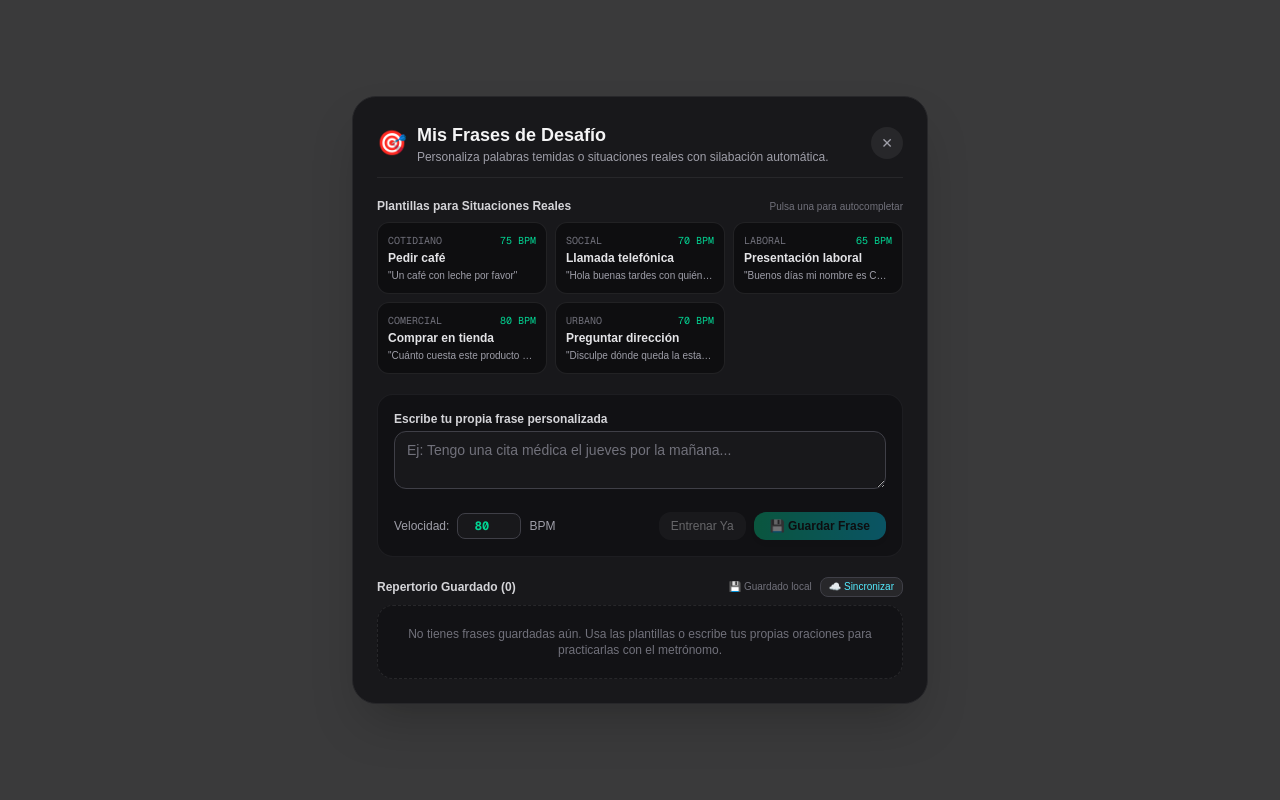
Test: CustomPhraseTrainer › guarda una frase en localStorage y la muestra en el repertorio
Type "Refrigerador de la cocina" into the text box labelled "Escribe tu propia frase personalizada" at coordinates (640, 460), box [394, 431, 886, 489]
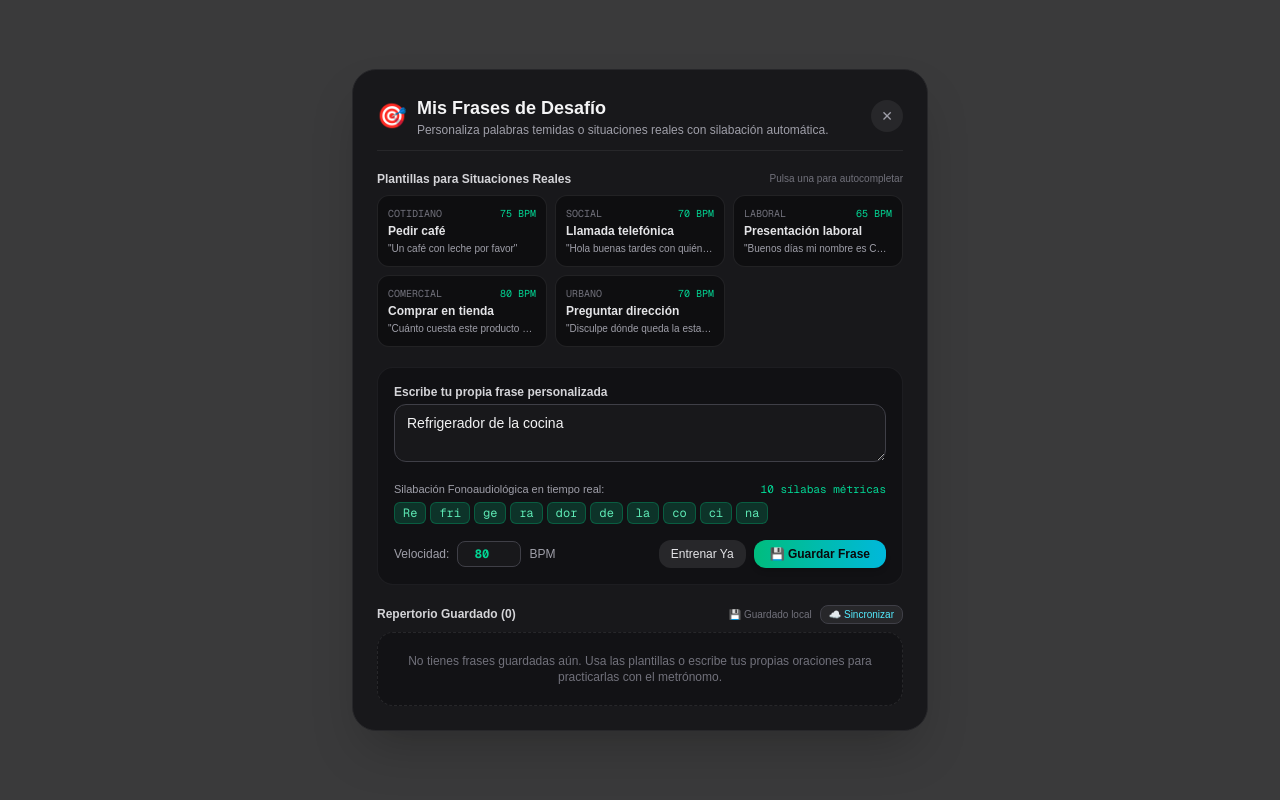
Click the button "💾 Guardar Frase" at coordinates (820, 554), box [754, 540, 886, 568]
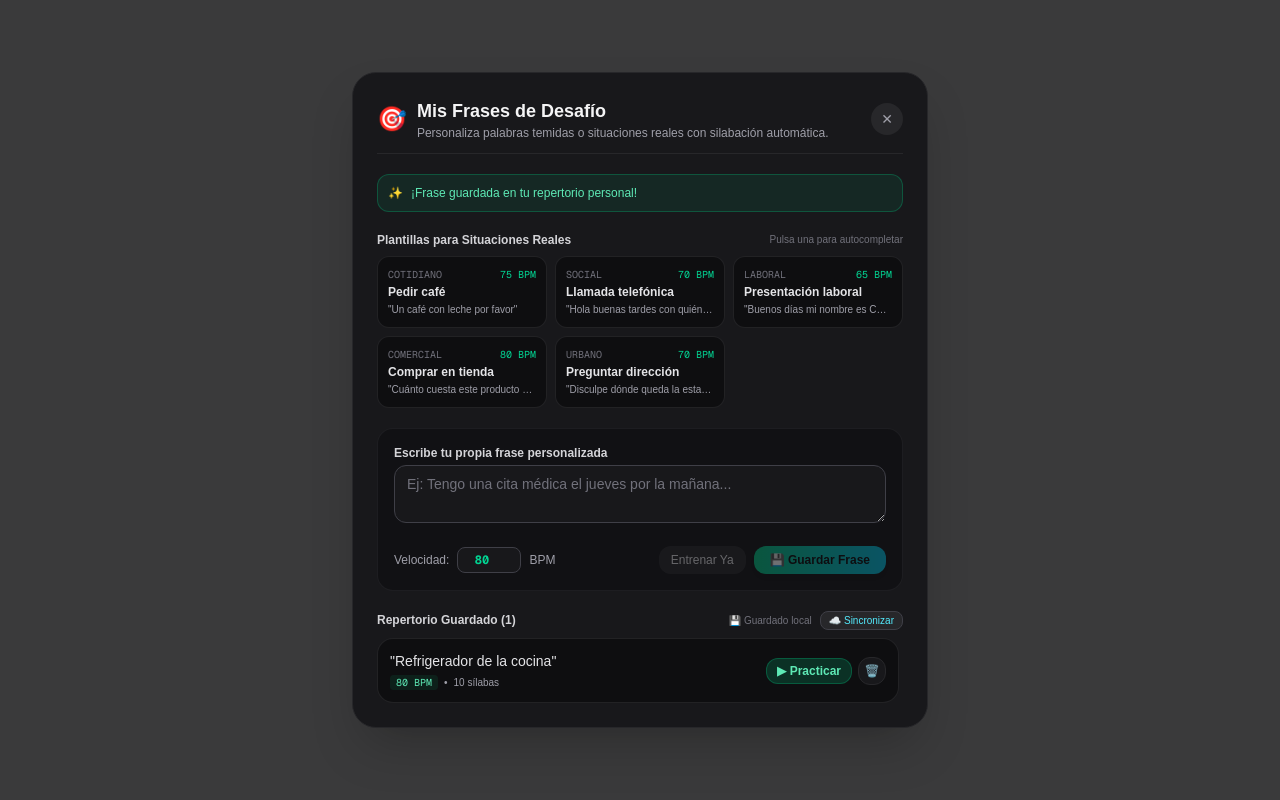
Expected: the text "\"Refrigerador de la cocina\"" is shown, [390, 653, 556, 669]
